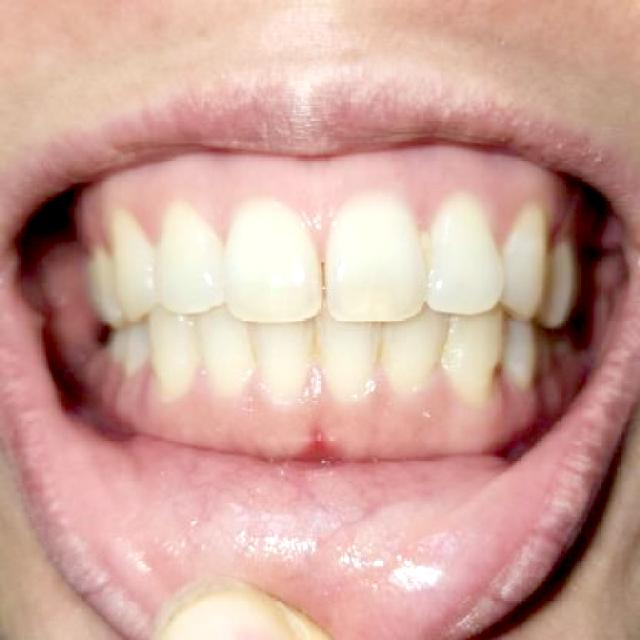Plaque: (247, 353, 458, 427), (409, 177, 516, 247)
